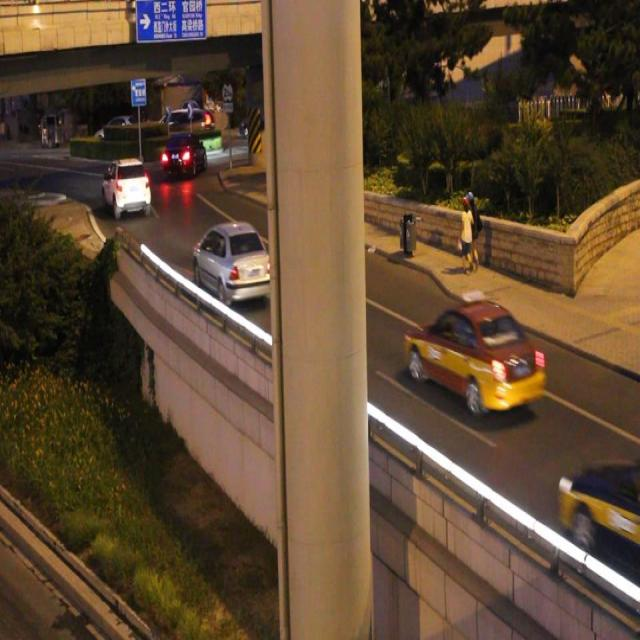car: (404, 290, 545, 412), (558, 441, 640, 582), (193, 219, 275, 306), (102, 157, 151, 216)
